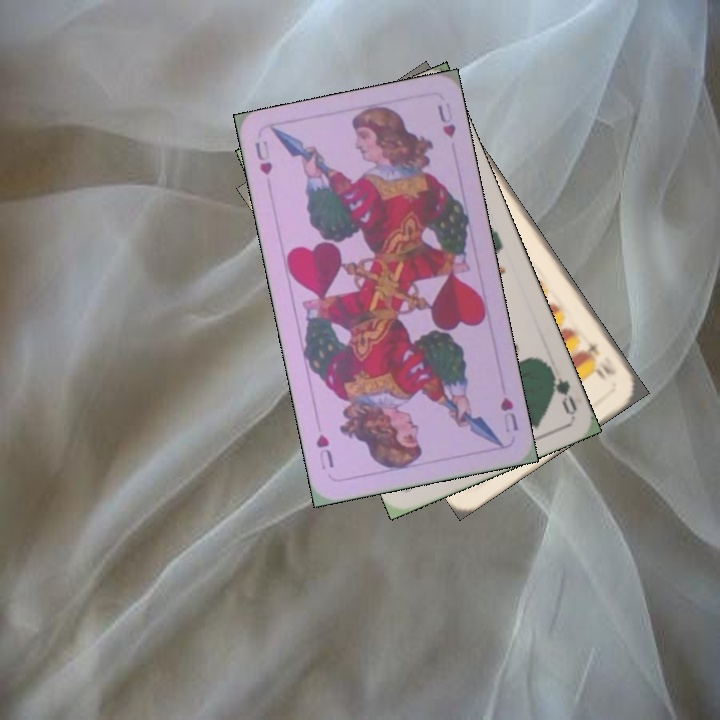E10: (578, 337, 619, 385)
GO: (542, 361, 580, 417)
HU: (496, 393, 521, 435), (251, 137, 275, 178)
